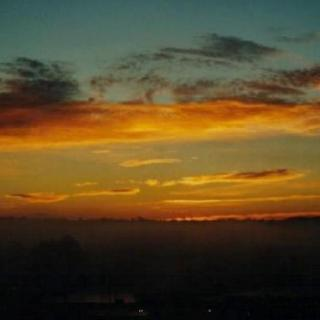Altostratus: (0, 1, 320, 232)
